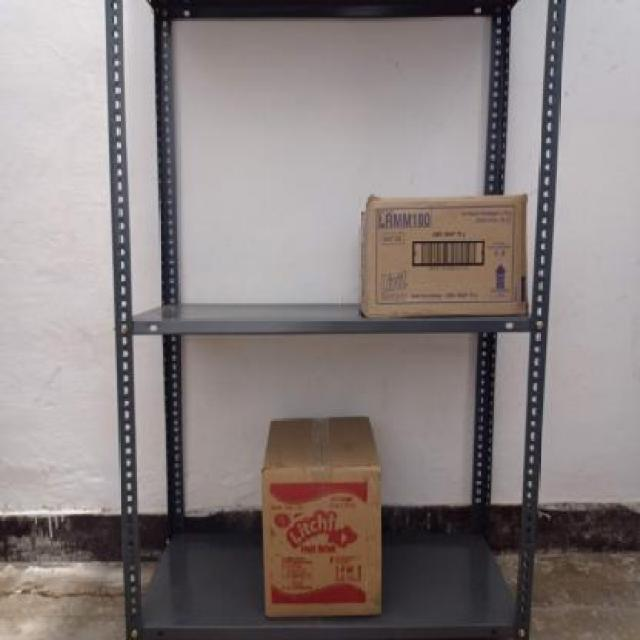box: (363, 195, 534, 317), (263, 462, 383, 616)
